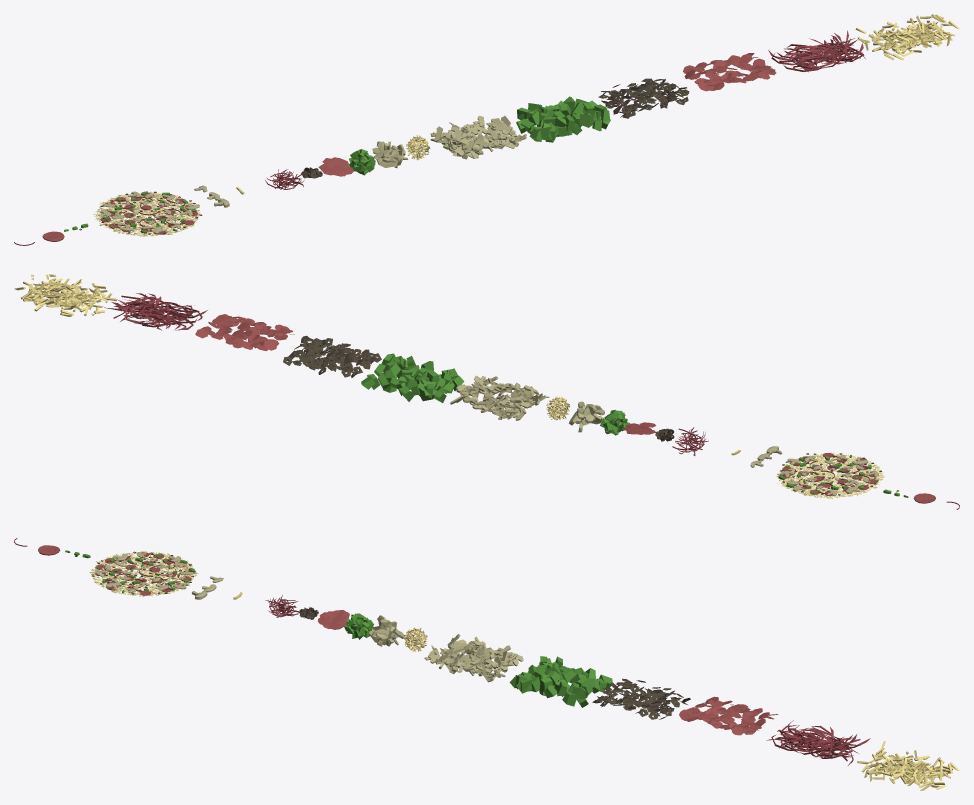
File: ToppingsGeometry.fbx
3 views of the same model, one above another, from view 1: azimuth 30°, elevation 25°; view 2: azimuth 150°, elevation 25°; view 3: azimuth 330°, elevation 25° (orthographic).
Parts seen in each view (by area): view 1: BoxPeppers, BoxMushroom, BoxCheese, BoxOlive, BoxPepperoni, BoxRedOnion, FlatCheeseToppings, FlatMushroomToppings, BallMushroom, FlatPepperoniToppings, BallPepper; view 2: BoxPeppers, BoxMushroom, BoxOlive, BoxCheese, BoxPepperoni, BoxRedOnion, FlatCheeseToppings, FlatMushroomToppings, FlatPepperoniToppings, BallMushroom; view 3: BoxPeppers, BoxMushroom, BoxCheese, BoxRedOnion, BoxOlive, BoxPepperoni, FlatCheeseToppings, FlatMushroomToppings, FlatPepperoniToppings, BallMushroom, BallPepper.
Part boxes in pixels (x1=…): BoxPeppers: x1=516, y1=96, x2=610, y2=142; BoxMushroom: x1=430, y1=115, x2=526, y2=159; BoxCheese: x1=855, y1=14, x2=959, y2=60; BoxOlive: x1=598, y1=78, x2=689, y2=118; BoxPepperoni: x1=683, y1=53, x2=776, y2=91; BoxRedOnion: x1=768, y1=30, x2=865, y2=72; FlatCheeseToppings: x1=93, y1=191, x2=200, y2=236; FlatMushroomToppings: x1=98, y1=191, x2=199, y2=234; BallMushroom: x1=372, y1=141, x2=408, y2=168; FlatPepperoniToppings: x1=100, y1=193, x2=197, y2=234; BallPepper: x1=349, y1=149, x2=375, y2=175; BoxPeppers: x1=361, y1=353, x2=464, y2=402; BoxMushroom: x1=450, y1=375, x2=549, y2=420; BoxOlive: x1=283, y1=335, x2=381, y2=377; BoxCheese: x1=14, y1=274, x2=116, y2=316; BoxPepperoni: x1=195, y1=314, x2=294, y2=350; BoxRedOnion: x1=104, y1=293, x2=207, y2=330; FlatCheeseToppings: x1=776, y1=452, x2=884, y2=499; FlatMushroomToppings: x1=780, y1=455, x2=878, y2=495; FlatPepperoniToppings: x1=780, y1=453, x2=878, y2=496; BallMushroom: x1=569, y1=401, x2=604, y2=432; BoxPeppers: x1=509, y1=656, x2=612, y2=707; BoxMushroom: x1=424, y1=634, x2=523, y2=682; BoxCheese: x1=857, y1=741, x2=959, y2=790; BoxRedOnion: x1=766, y1=720, x2=870, y2=765; BoxOlive: x1=592, y1=678, x2=690, y2=719; BoxPepperoni: x1=679, y1=696, x2=778, y2=735; FlatCheeseToppings: x1=89, y1=551, x2=198, y2=596; FlatMushroomToppings: x1=95, y1=552, x2=193, y2=592; FlatPepperoniToppings: x1=95, y1=552, x2=193, y2=595; BallMushroom: x1=369, y1=615, x2=404, y2=646; BallPepper: x1=344, y1=613, x2=373, y2=639.
Bounding box in the file's own units: 1794 × 59.87 × 178.
